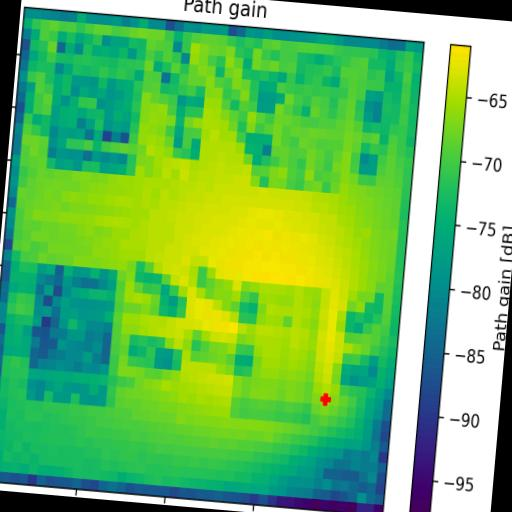Concrete: (250, 48, 352, 194)
Glass: (46, 32, 147, 176)
Metal: (229, 279, 330, 426)
Wood: (27, 262, 118, 408)
